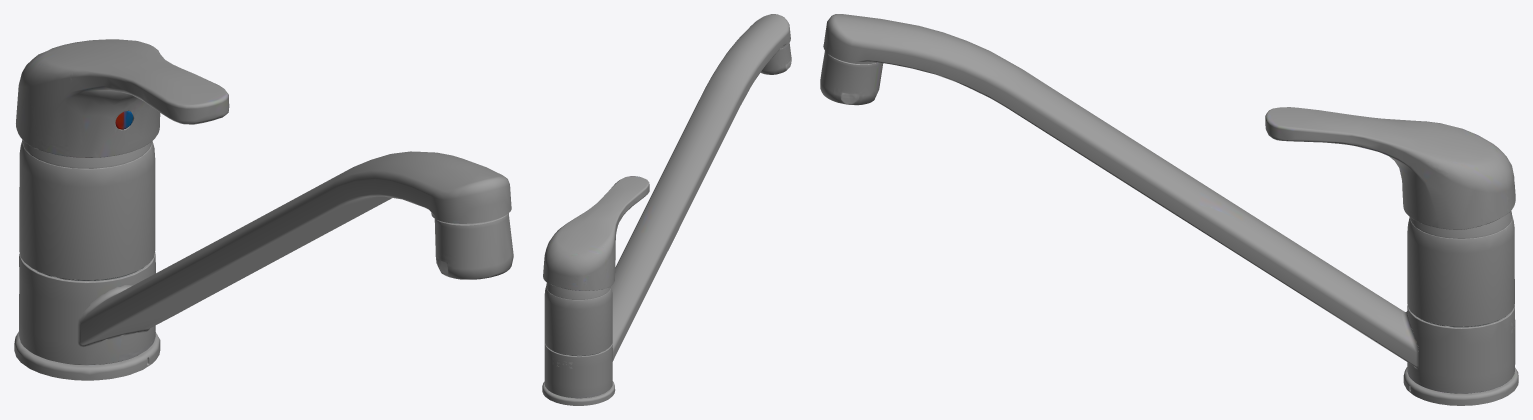
The model's file is lagan_bateria_kuchenna_10085027.glb.
3 renders of one model, left to right at view 1: azimuth 30°, elevation 25°; view 2: azimuth 150°, elevation 25°; view 3: azimuth 270°, elevation 25°, orthographic. The views are drawn at different scales.
Parts seen in each view (by area): view 1: lagan_bateria_kuchenna_10085027; view 2: lagan_bateria_kuchenna_10085027; view 3: lagan_bateria_kuchenna_10085027.
Part boxes in pixels (x1,y1,x2,y2): lagan_bateria_kuchenna_10085027: (14,39,513,380); lagan_bateria_kuchenna_10085027: (542,14,791,405); lagan_bateria_kuchenna_10085027: (820,14,1518,405).
Bounding box in the file's own units: 0.0461 × 0.1605 × 0.2793.
1 material, 1 textured.
